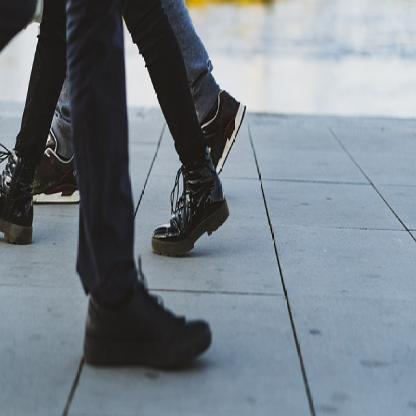bota: (81, 264, 215, 374), (150, 144, 231, 260), (0, 141, 35, 247)
